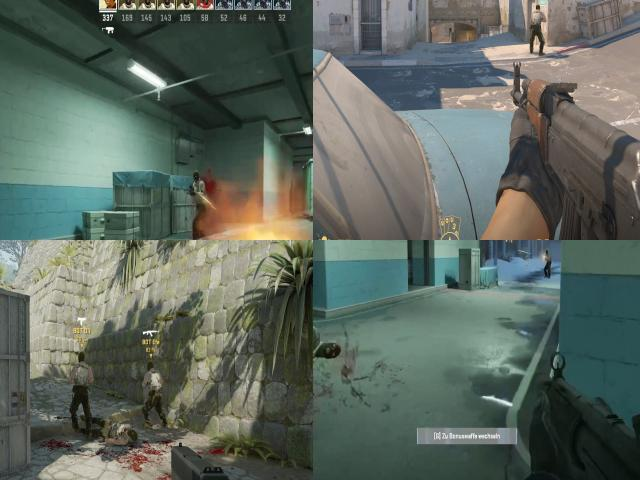CT: (449, 26, 452, 37)
CT-Head: (451, 27, 451, 28)
Dead: (87, 412, 137, 446)
T: (66, 350, 95, 432), (140, 356, 168, 429), (529, 3, 546, 56), (190, 168, 206, 221), (542, 246, 552, 273), (544, 249, 551, 259)
T-Head: (76, 349, 90, 364), (145, 358, 158, 374), (192, 170, 201, 185), (536, 4, 540, 12)
